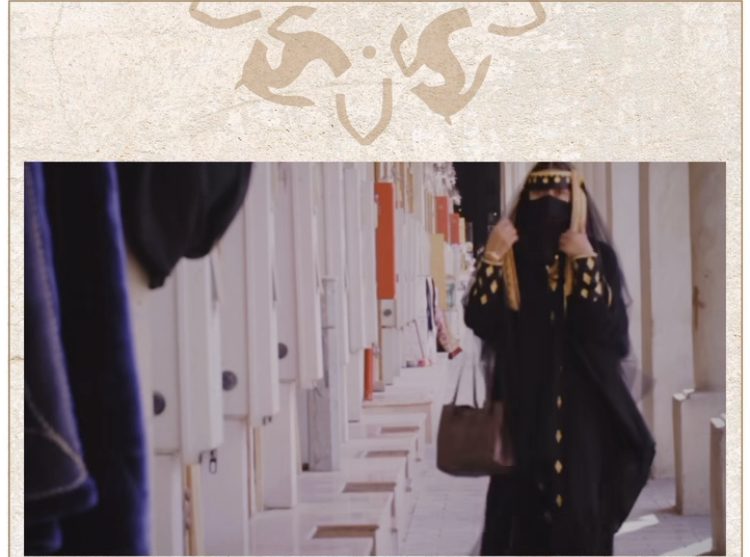Saudi_Founding_Day: (430, 162, 659, 557)
